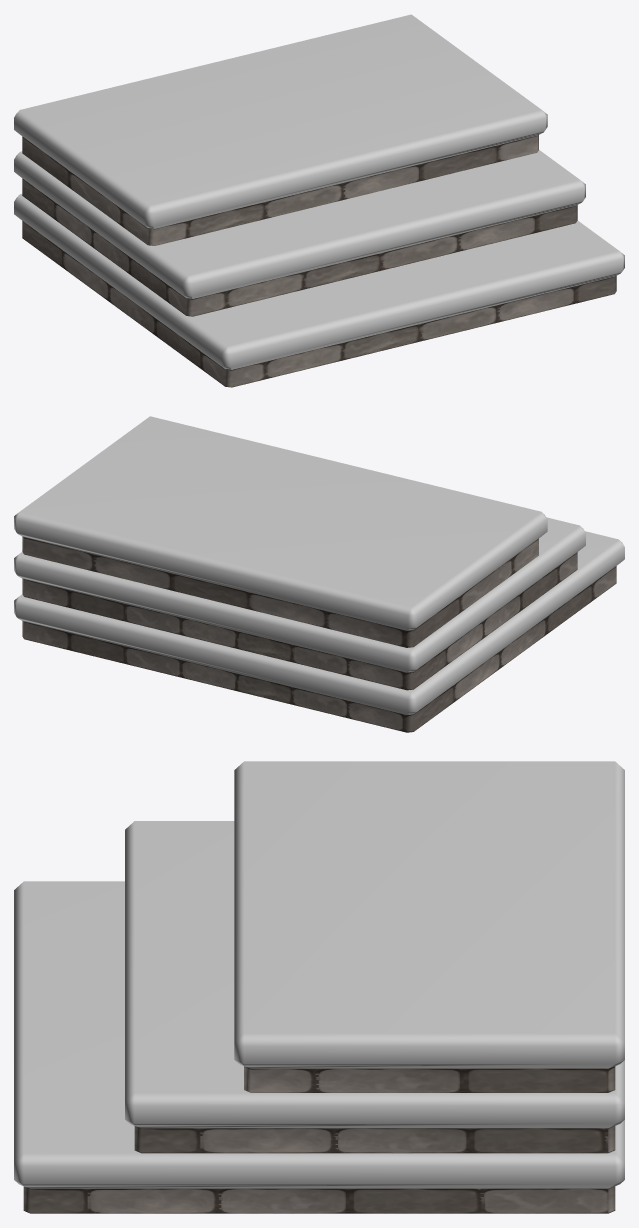
Rendered from StaircaseSmall.fbx.
3 renders of one model, top to bottom at view 1: azimuth 30°, elevation 25°; view 2: azimuth 150°, elevation 25°; view 3: azimuth 270°, elevation 25°, orthographic. The views are drawn at different scales.
Visible parts, largest first — view 1: Mesh; view 2: Mesh; view 3: Mesh.
Part boxes in pixels (bbox=[...]): Mesh: bbox=[14, 14, 624, 387]; Mesh: bbox=[14, 416, 624, 732]; Mesh: bbox=[14, 761, 624, 1213].
Bounding box in the file's own units: 197 × 59.23 × 182.
